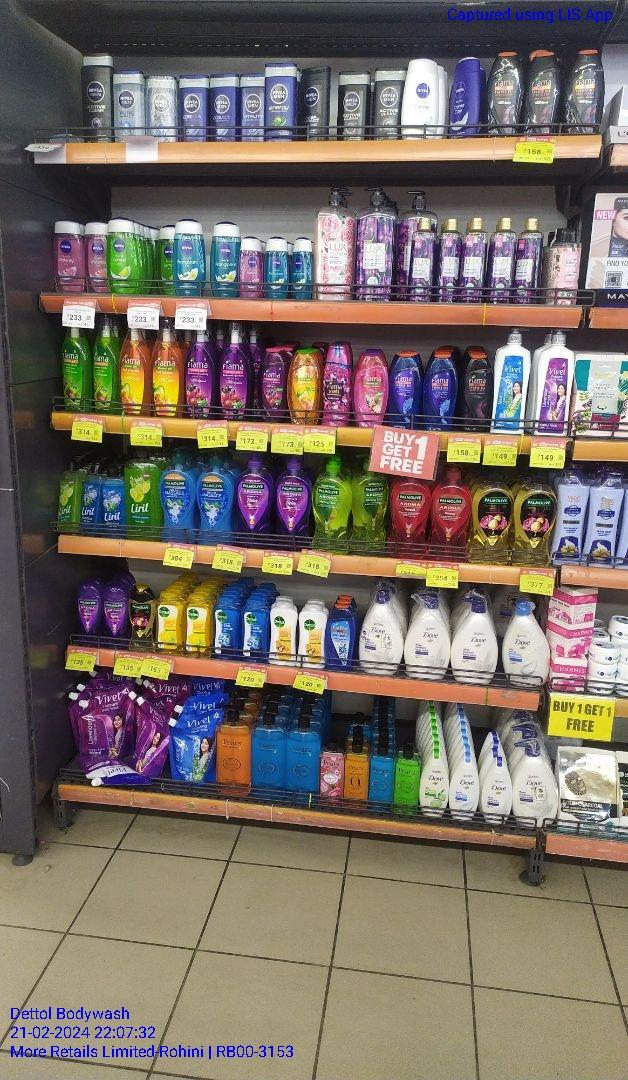Dettol_Bodywash_Cool: (243, 597, 269, 663), (214, 597, 241, 660)
Dettol_Bodywash_Refresh: (156, 590, 183, 653), (185, 594, 211, 655)
Dettol_Nourish_Body_Wash_250ML: (298, 599, 325, 669), (272, 599, 296, 665)
Dove_Deep_Moisture_Body_Wash_250ML: (482, 757, 513, 824)
Dove_Gentle_Exfoliating_Body_Wash_250ML: (450, 756, 479, 819)
Dove_Refreshing_Body_Wash_250ML: (421, 748, 448, 817)
Fiama_Shower_Gel_Patchouli_and_Macadamia_250ML: (351, 348, 389, 426)
Fiama_Shower_Gel_Peach_and_Avocado_250ML: (288, 348, 322, 424)
Liril_Cooling_Mint_Body_Wash_250ML: (102, 465, 125, 539), (81, 464, 101, 537)
Liril_Lime_and_Tea_Tree_Oil_Body_Wash_250ML: (57, 459, 80, 529)
Lux_Black_Orchid_Scent_and_Juniper_Oil_Body_Wash_245ML: (409, 216, 436, 302), (517, 216, 541, 303), (488, 217, 512, 303), (462, 216, 485, 304), (439, 218, 459, 301)
Nivea_Creme_Care_Body_Wash_250ML: (448, 60, 480, 136)
Nivea_Creme_Soft_Body_Wash_250ML: (402, 55, 440, 139)
Nivea_Shower_Gel_Frangipani_and_Oil_250ML: (174, 219, 205, 296), (209, 221, 239, 297)
Nivea_Shower_Gel_Lemon_and_Oil_250ML: (108, 218, 138, 295)
Nivea_Shower_Gel_Waterlily_and_Oil_250ML: (54, 221, 87, 294)
Palmolive_Aroma_Relax_250ML: (103, 580, 127, 650), (77, 582, 99, 647)
Palmolive_Luminous_Oils_Invigorating_Macadamia_Oil_With_Peony_250ML: (129, 582, 155, 652)
Pears_Pure_Glycerin_and_Lemon_Flower_Extracts_Body_Wash_250ML: (396, 744, 419, 816)
Pears_Pure_Glycerin_and_Mint_Extracts_Body_Wash_250ML: (370, 742, 394, 814)
